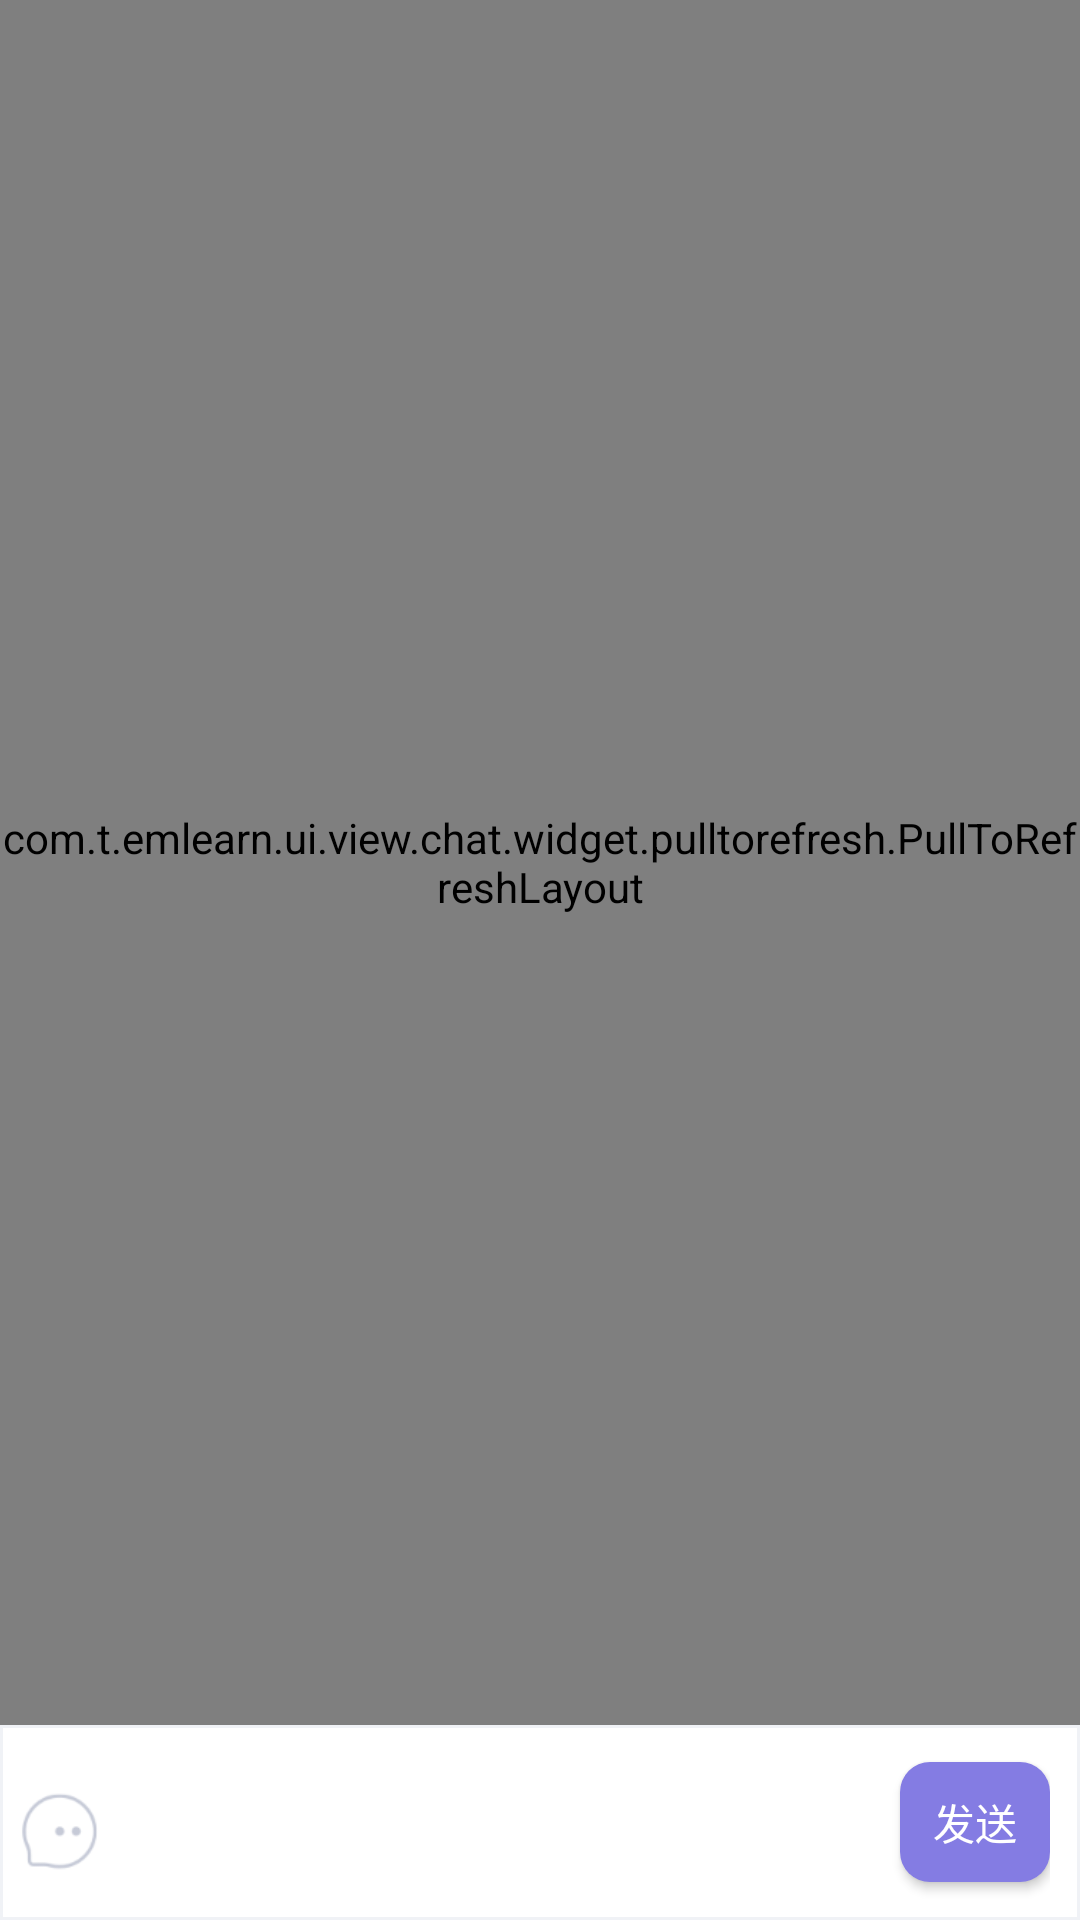

Locate icon controls on the screen. Image size 1080x1920, boxes as (x1, y1, x2, y2).
chat message on: (22, 1795, 97, 1868)
